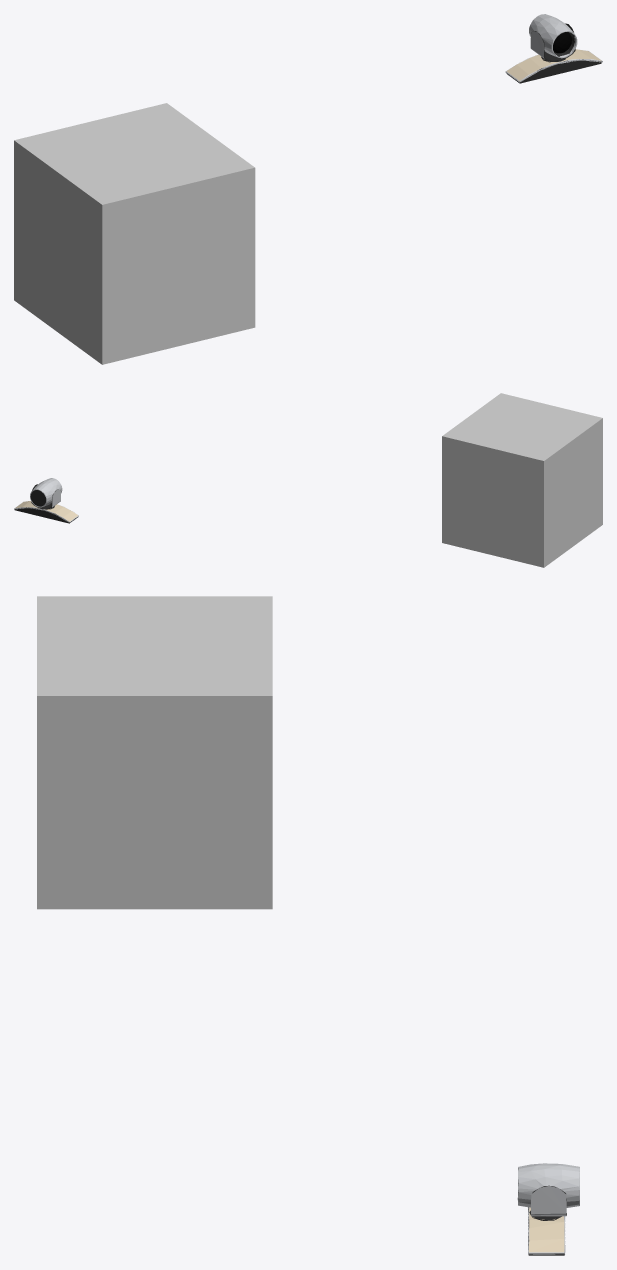
Rendered from camModel.fbx.
3 views of the same model, one above another, from view 1: azimuth 30°, elevation 25°; view 2: azimuth 150°, elevation 25°; view 3: azimuth 270°, elevation 25° (orthographic). The views are drawn at different scales.
Visible parts, largest first — view 1: Cube, Polycom_ea; view 2: Cube, Polycom_ea; view 3: Cube, Polycom_ea.
Part boxes in pixels (<box>): Cube: <box>14,103,255,364</box>; Polycom_ea: <box>505,14,602,83</box>; Cube: <box>442,393,602,567</box>; Polycom_ea: <box>14,478,78,523</box>; Cube: <box>37,596,272,909</box>; Polycom_ea: <box>517,1163,579,1255</box>.
Bounding box in the file's own units: 896 × 201 × 461.
